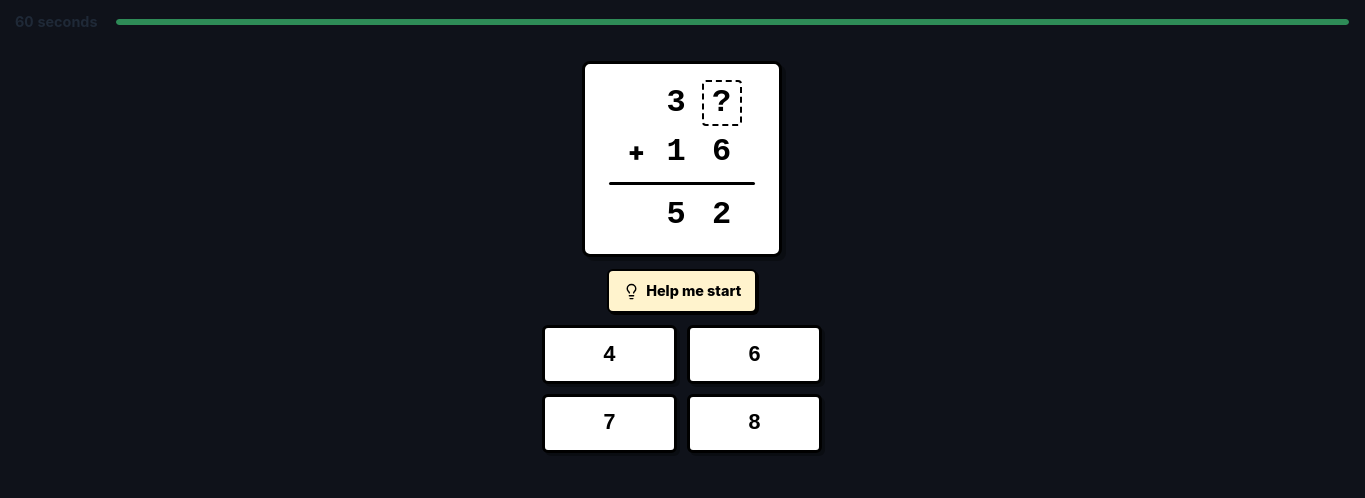
Test: optional question help › shows a request error and allows another try while preserving answer choices
Step 1. Click the button "Help me start" → [682, 291], box [607, 269, 757, 313]
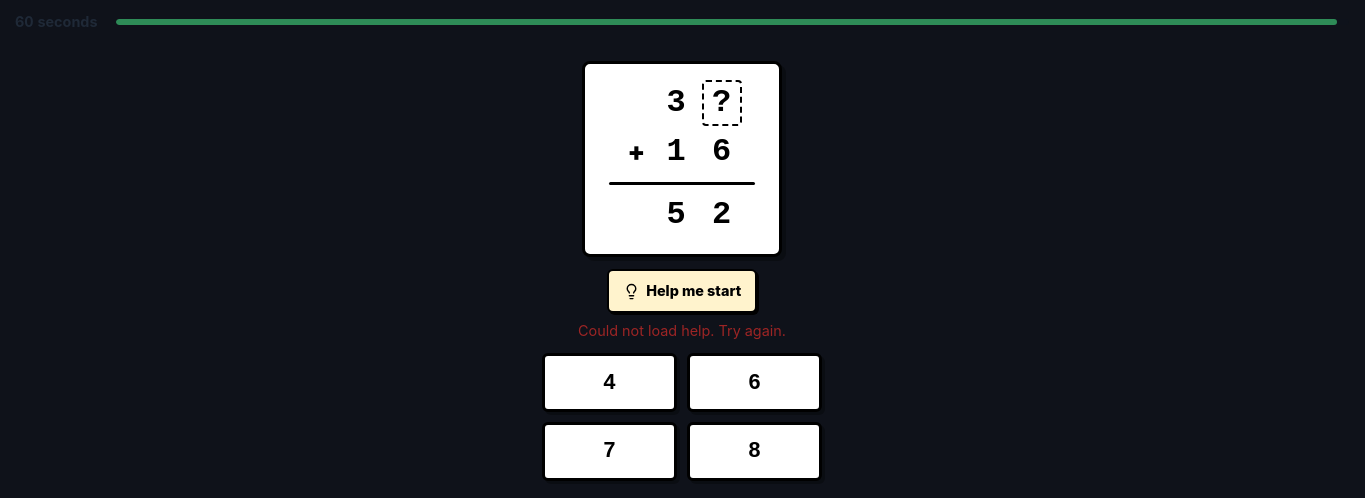
Check: the button "4" is enabled, box [542, 353, 677, 412]
Check: the message reads "Could not load help. Try again.", box [578, 322, 786, 339]
